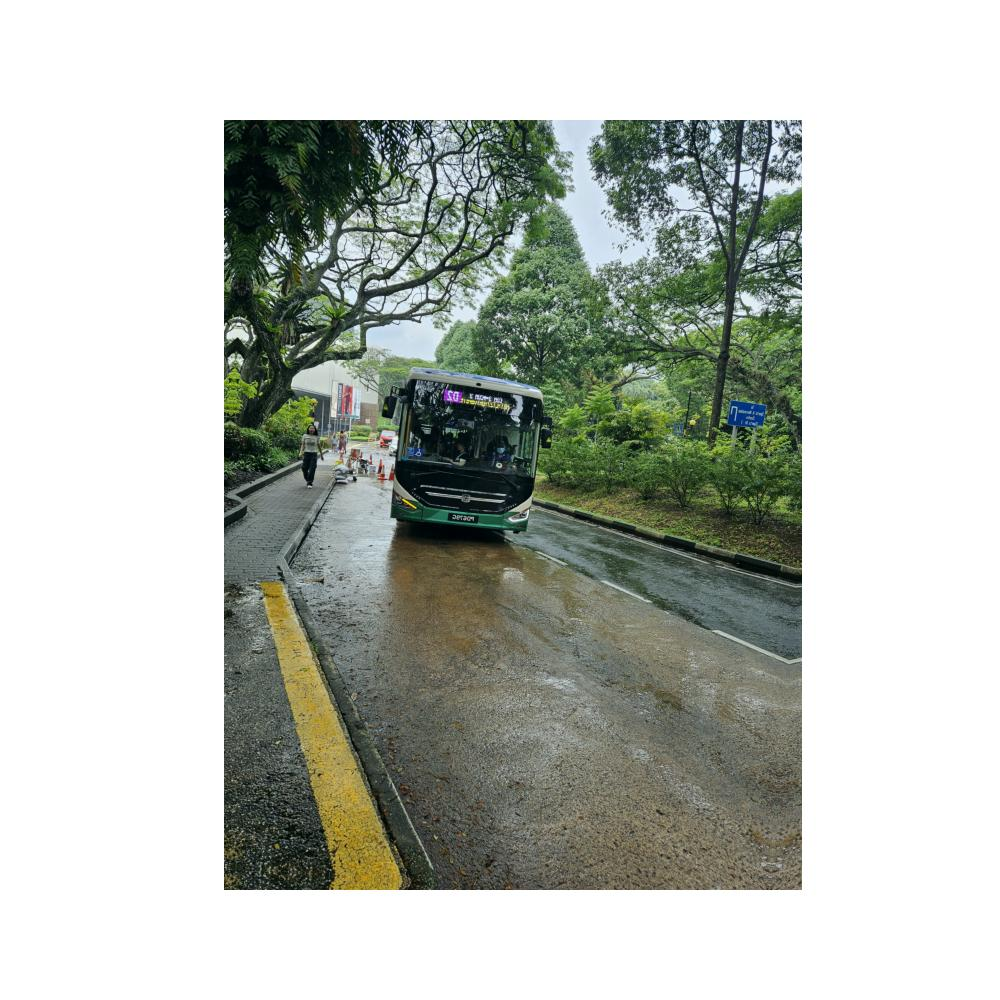bus: (378, 365, 553, 536)
